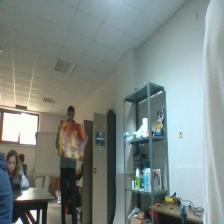fire-poster: (58, 120, 87, 160)
